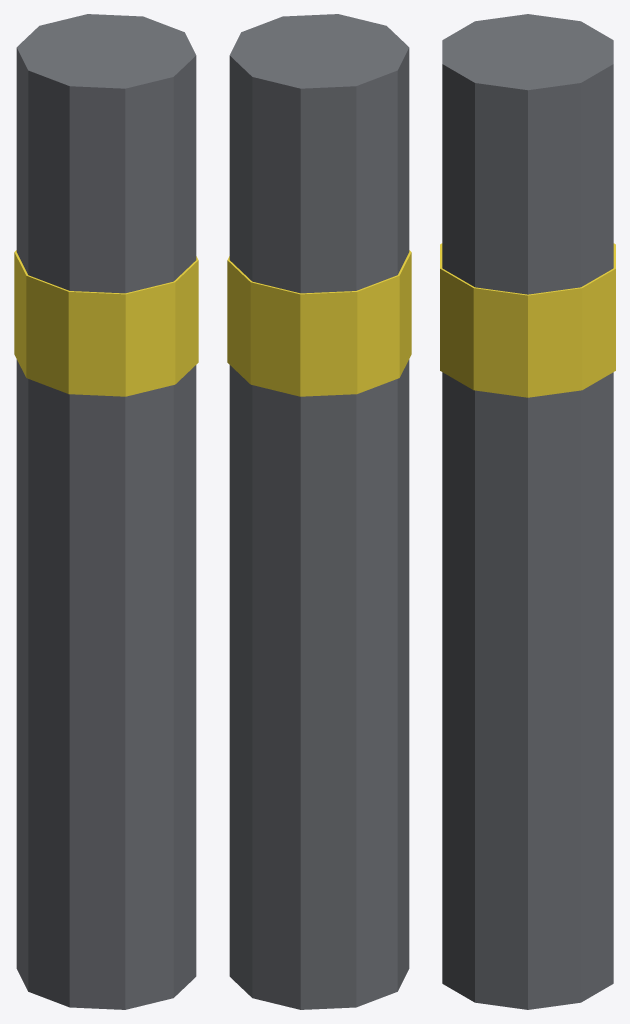
Rendered from bollard.glb.
The picture shows the model from 3 angles, left to right: view 1: azimuth 30°, elevation 25°; view 2: azimuth 150°, elevation 25°; view 3: azimuth 270°, elevation 25°; orthographic projection.
Visible parts, largest first — view 1: bollard; view 2: bollard; view 3: bollard.
Boxes of the visible parts, box(x1,y1,x2,y2) form: bollard: box(14, 14, 198, 1009); bollard: box(227, 14, 411, 1009); bollard: box(440, 14, 615, 1009).
Bounding box in the file's own units: 0.164 × 0.9 × 0.156.
